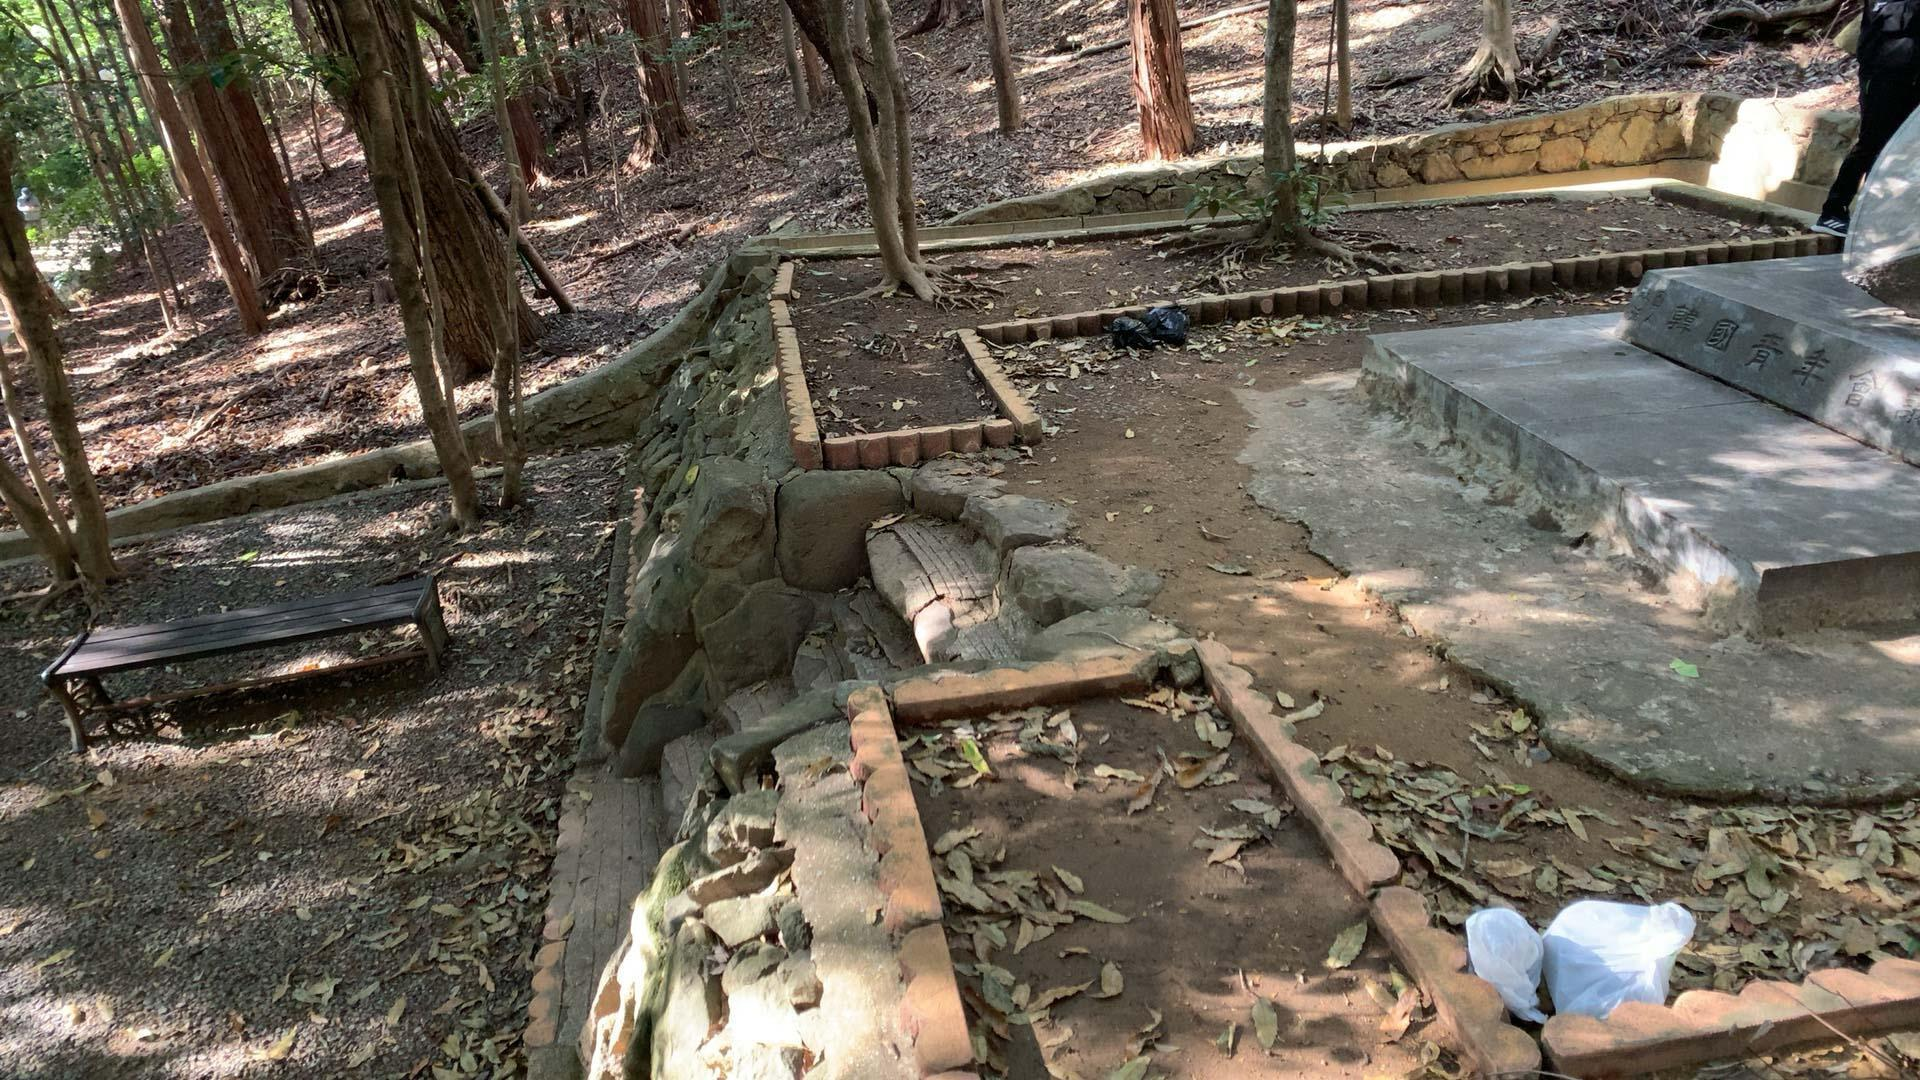white_bag: (1540, 884, 1702, 1018), (1447, 897, 1571, 1033)
